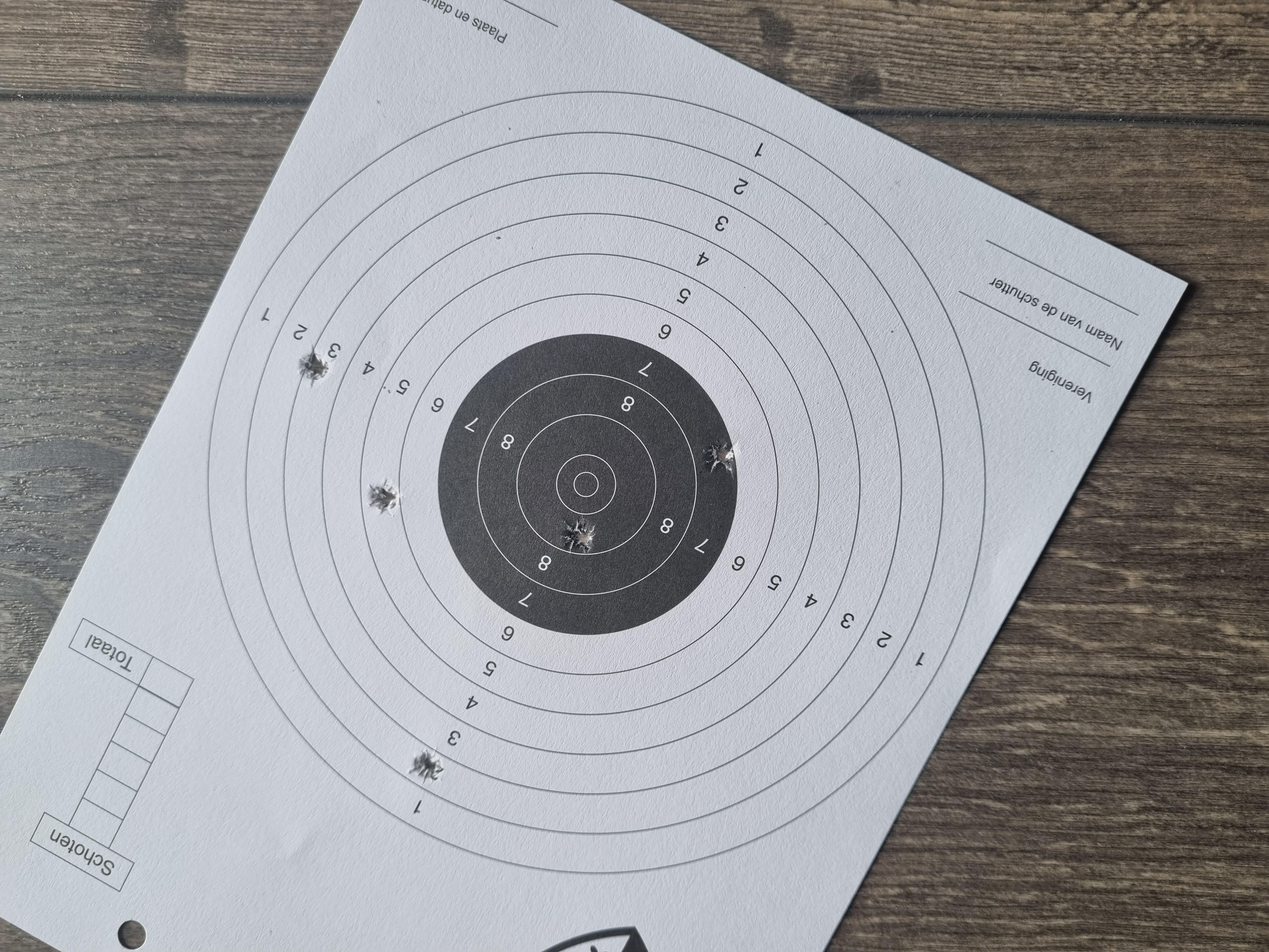hole: (530, 423, 583, 448), (224, 307, 273, 333), (633, 529, 683, 554), (753, 224, 809, 246), (583, 276, 631, 301)
